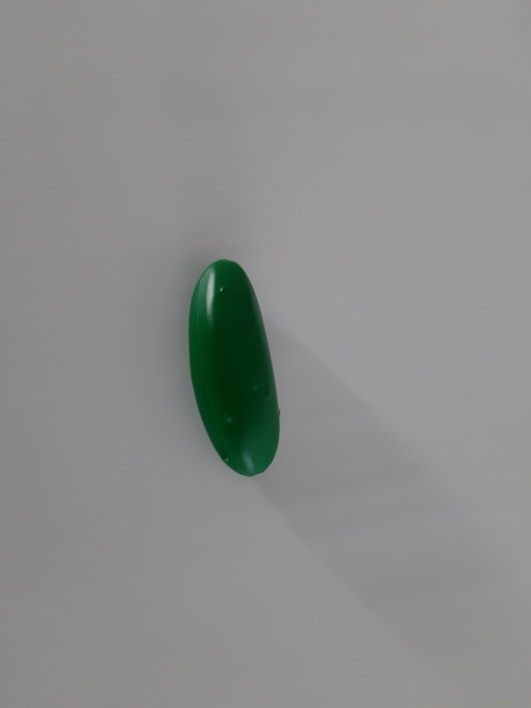cucumber: (161, 248, 328, 500)
